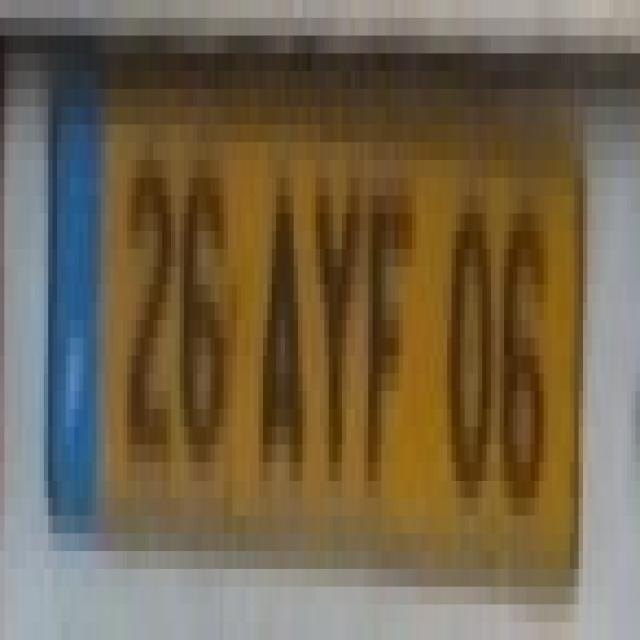0: (425, 142, 500, 480)
2: (114, 107, 176, 444)
6: (482, 160, 557, 480), (162, 125, 232, 462)
7: (346, 142, 421, 480)
A: (236, 125, 302, 462)
Y: (289, 124, 364, 480)
